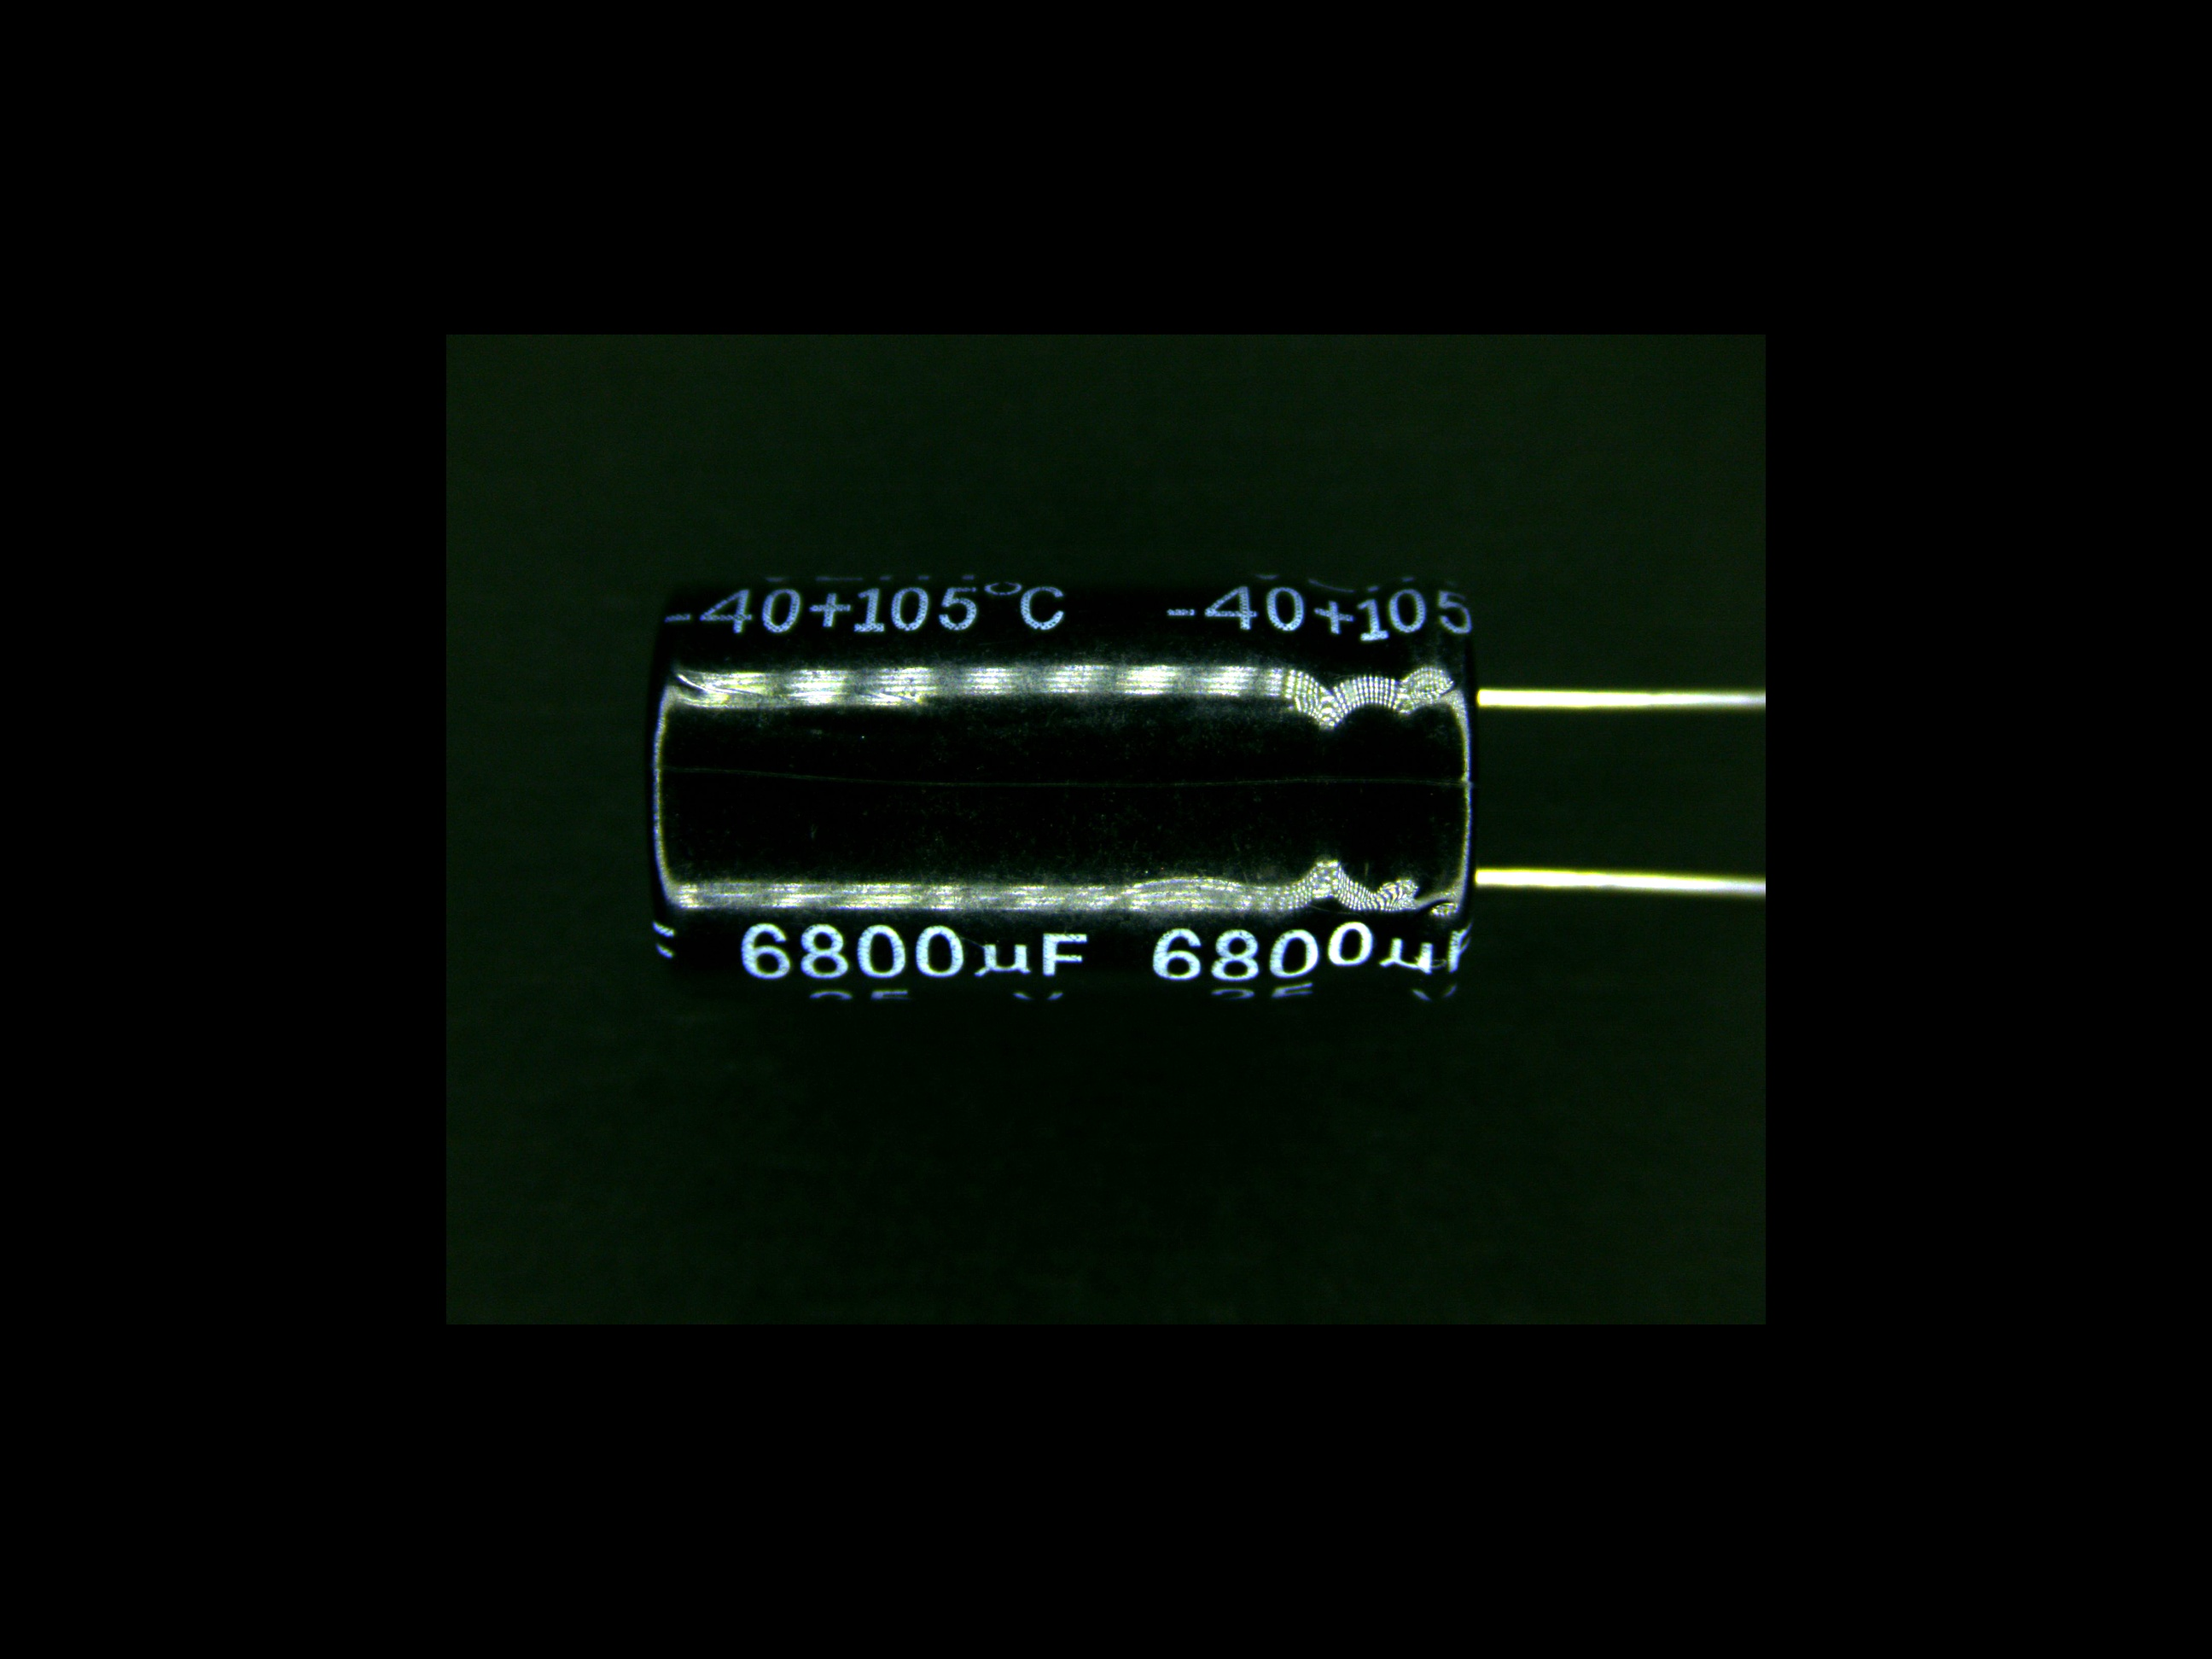c3: (637, 572, 1663, 1009)
